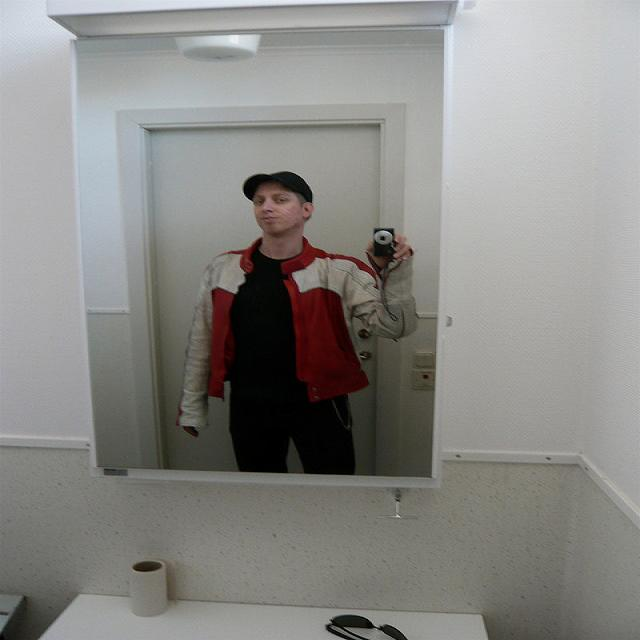person: (171, 172, 417, 476)
